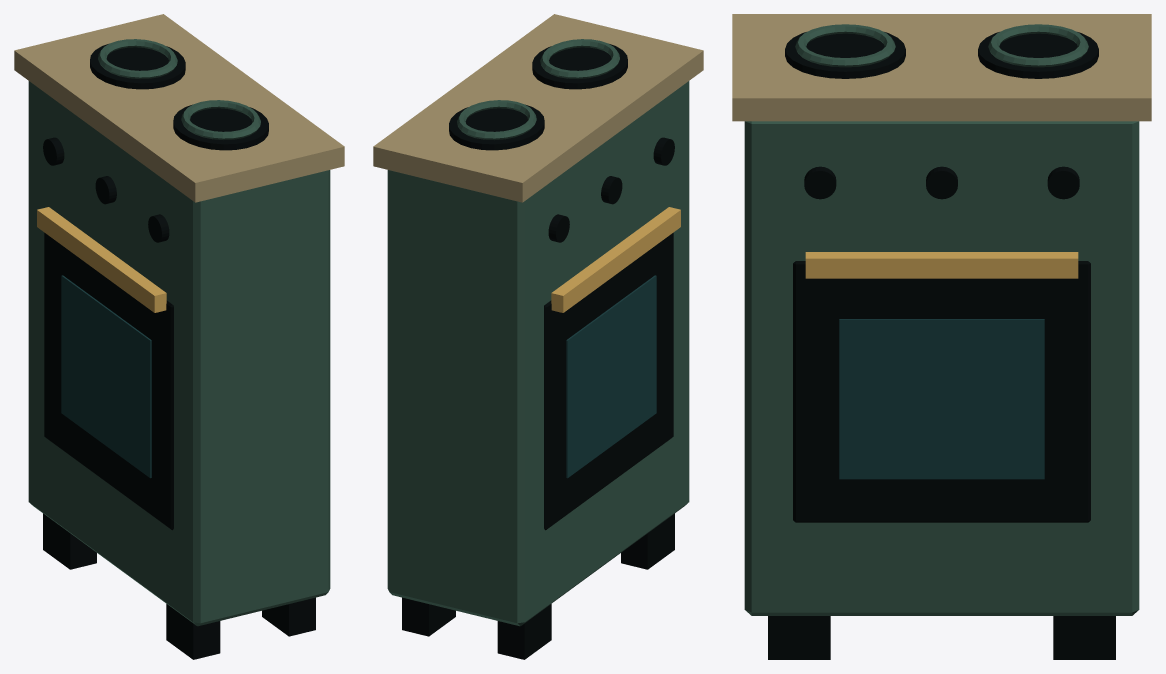
Rendered from panel_metal_kitchen.fbx.
The picture shows the model from 3 angles, left to right: view 1: azimuth 30°, elevation 25°; view 2: azimuth 150°, elevation 25°; view 3: azimuth 270°, elevation 25°; orthographic projection. The views are drawn at different scales.
Visible parts, largest first — view 1: Part_0; view 2: Part_0; view 3: Part_0.
Part boxes in pixels (bbox=[...]): Part_0: bbox=[14, 14, 344, 659]; Part_0: bbox=[373, 14, 703, 659]; Part_0: bbox=[732, 14, 1151, 659].
Bounding box in the file's own units: 1.6 × 4.6 × 3.
